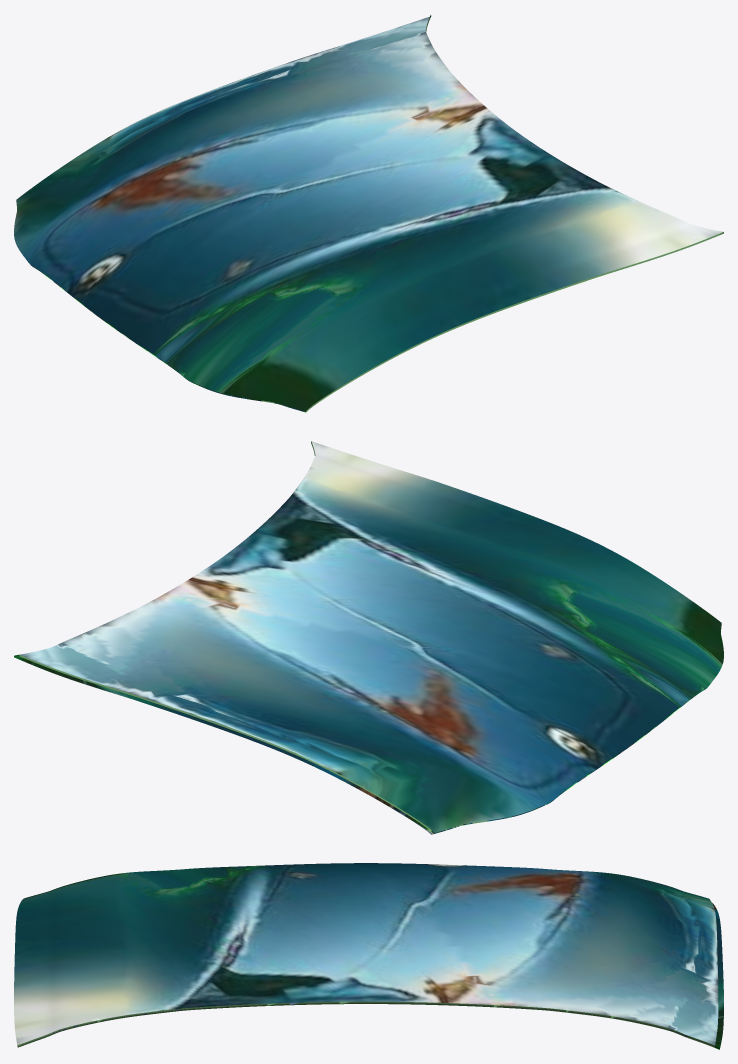
The model's file is Cofre.obj.
3 renders of one model, top to bottom at view 1: azimuth 30°, elevation 25°; view 2: azimuth 150°, elevation 25°; view 3: azimuth 270°, elevation 25°, orthographic. The views are drawn at different scales.
Visible parts, largest first — view 1: Cofre.001; view 2: Cofre.001; view 3: Cofre.001.
Boxes of the visible parts, x1,y1,x2,y2 form: Cofre.001: [14, 15, 723, 412]; Cofre.001: [14, 441, 723, 834]; Cofre.001: [14, 863, 723, 1049].
Size of the model in its own units: 2.58 by 0.4786 by 2.8.
